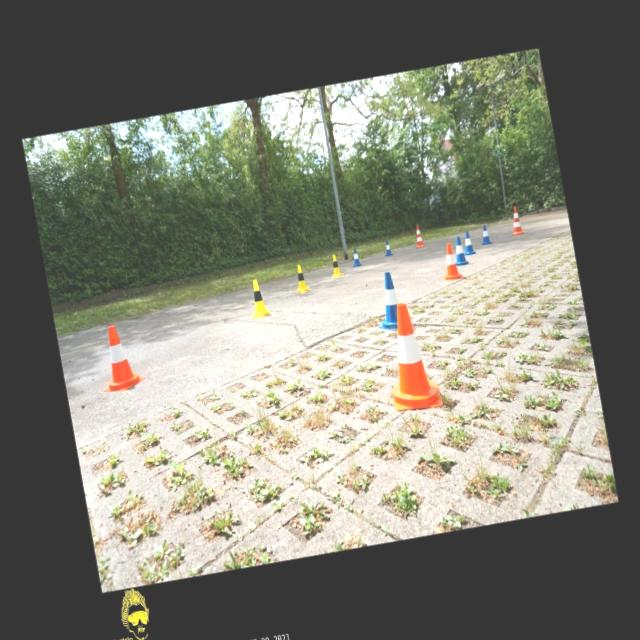blue_cone: (370, 270, 402, 334), (451, 234, 468, 266), (460, 230, 476, 255), (478, 223, 492, 245), (349, 247, 362, 267), (382, 239, 393, 256)
large_orange_cone: (508, 205, 524, 235), (412, 223, 424, 247)
orange_cone: (376, 299, 442, 413), (92, 322, 146, 394), (438, 242, 462, 280)
yellow_cone: (244, 277, 272, 319), (290, 263, 310, 293), (327, 252, 343, 277)
